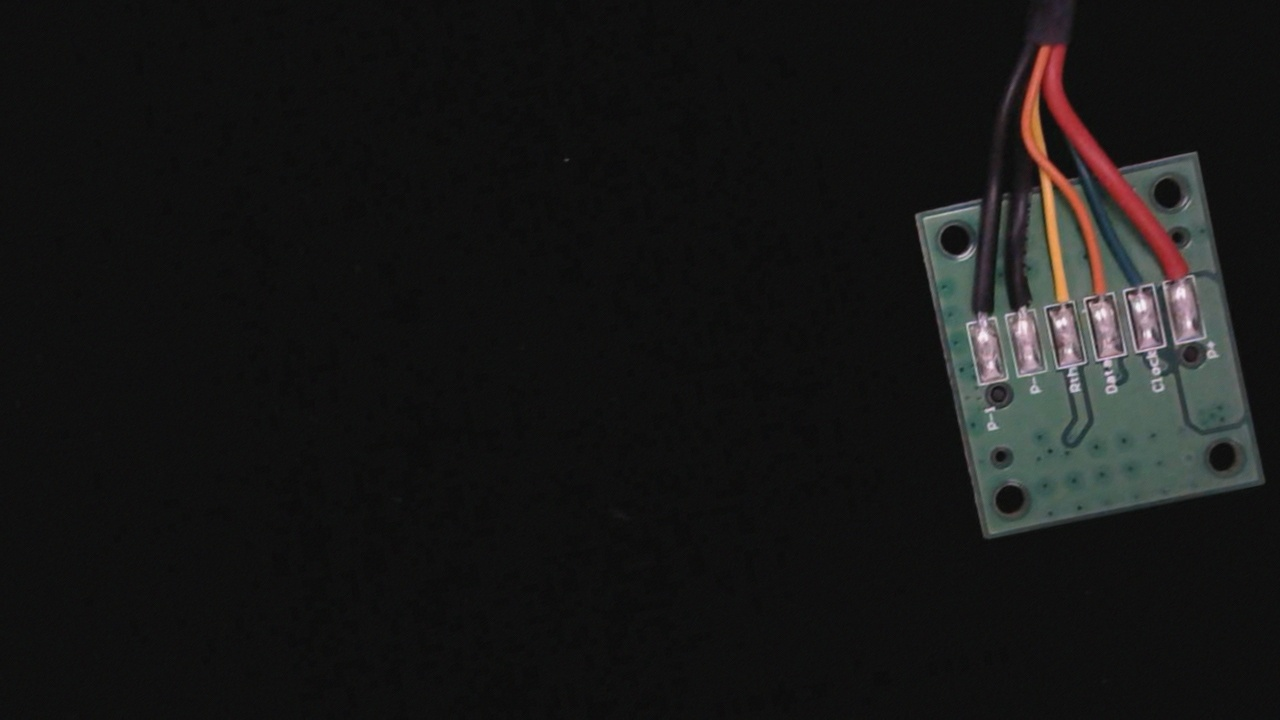Black: (997, 262, 1039, 330)
Black1: (954, 266, 999, 338)
Green: (1113, 234, 1161, 309)
Orange: (1074, 239, 1119, 316)
Red: (1150, 226, 1198, 302)
Yellow: (1032, 245, 1080, 325)
